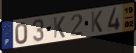0: (14, 21, 29, 46)
2: (70, 13, 84, 37)
3: (32, 18, 45, 43)
4: (106, 7, 122, 32)
K: (90, 9, 104, 34), (53, 15, 66, 39)
